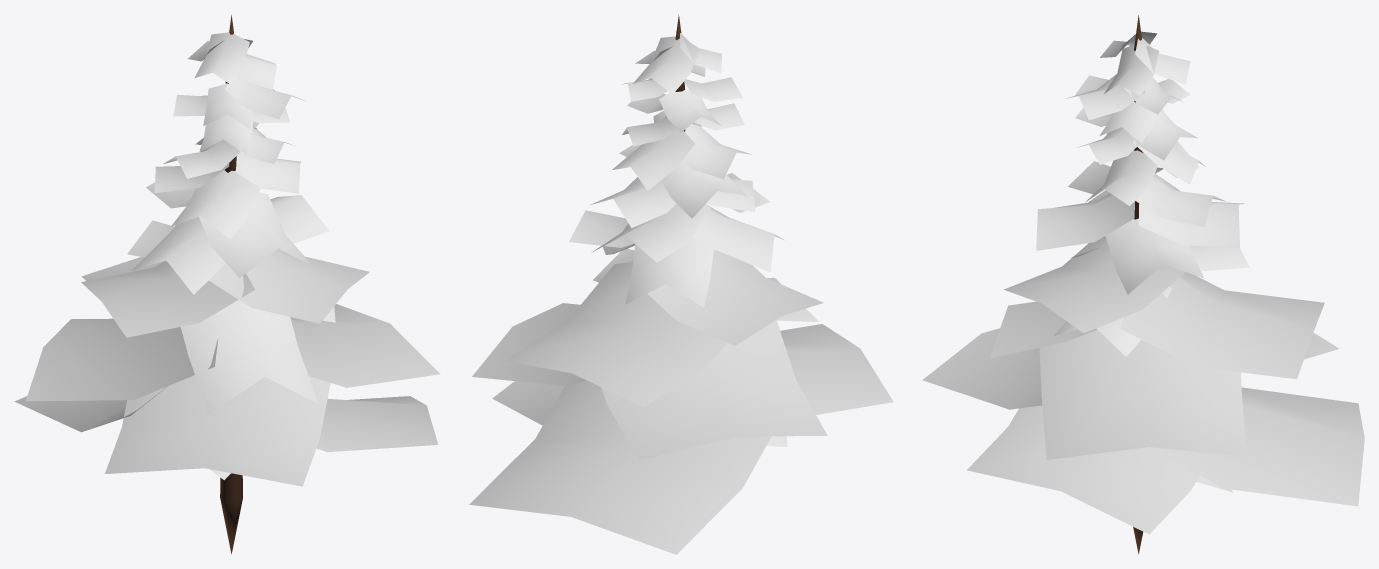
Rendered from spruce_small.fbx.
3 renders of one model, left to right at view 1: azimuth 30°, elevation 25°; view 2: azimuth 150°, elevation 25°; view 3: azimuth 270°, elevation 25°, orthographic.
Visible parts, largest first — view 1: Spruce_small; view 2: Spruce_small; view 3: Spruce_small.
Boxes of the visible parts, box(x1,y1,x2,y2) form: Spruce_small: box(14, 15, 440, 554); Spruce_small: box(469, 14, 893, 554); Spruce_small: box(922, 15, 1364, 553).
Bounding box in the file's own units: 845 × 1205 × 894.
